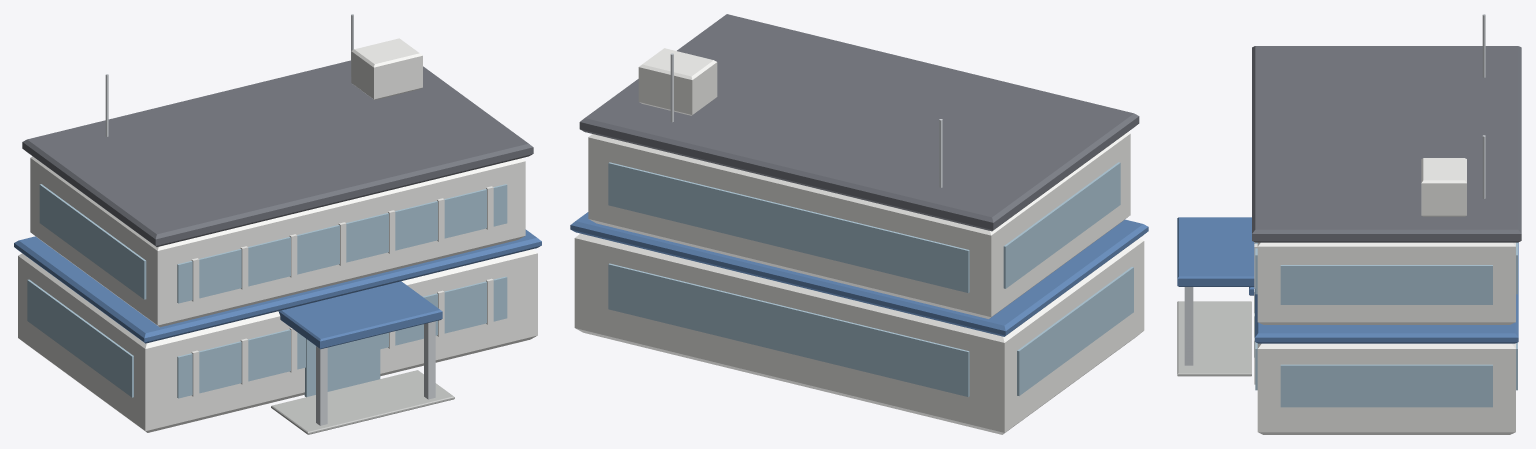
Rendered from crewbldg.glb.
3 views of the same model, side by side, from view 1: azimuth 30°, elevation 25°; view 2: azimuth 150°, elevation 25°; view 3: azimuth 270°, elevation 25° (orthographic). The views are drawn at different scales.
Parts seen in each view (by area): view 1: crew-building; view 2: crew-building; view 3: crew-building.
Boxes of the visible parts, <box> form: crew-building: <box>14,14,541,434</box>; crew-building: <box>570,14,1148,434</box>; crew-building: <box>1177,14,1521,434</box>.
Bounding box in the file's own units: 16.2 × 10.2 × 12.
